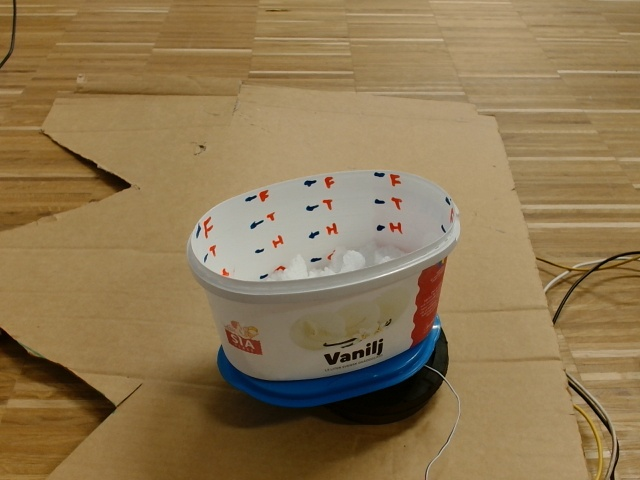Big_quarter: (184, 166, 462, 300)
